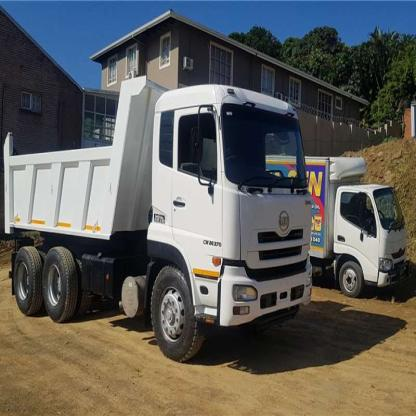dump_truck: (7, 74, 316, 354), (319, 142, 412, 314)
